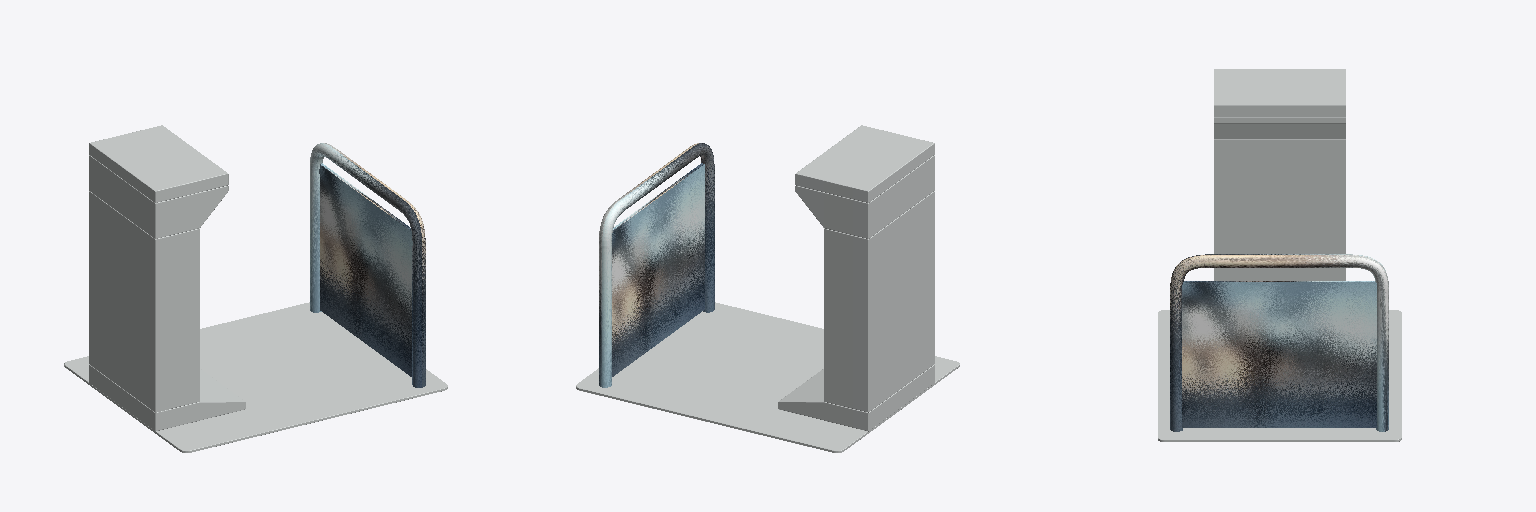
The picture shows the model from 3 angles: view 1: azimuth 30°, elevation 25°; view 2: azimuth 150°, elevation 25°; view 3: azimuth 270°, elevation 25°; orthographic projection.
Visible parts, largest first — view 1: torniquete; view 2: torniquete; view 3: torniquete.
Boxes of the visible parts, x1,y1,x2,y2 form: torniquete: [64, 125, 447, 452]; torniquete: [576, 125, 959, 452]; torniquete: [1158, 69, 1401, 441].
Bounding box in the file's own units: 111288 × 96573 × 88109.
Materials: 1 (1 with a texture image).